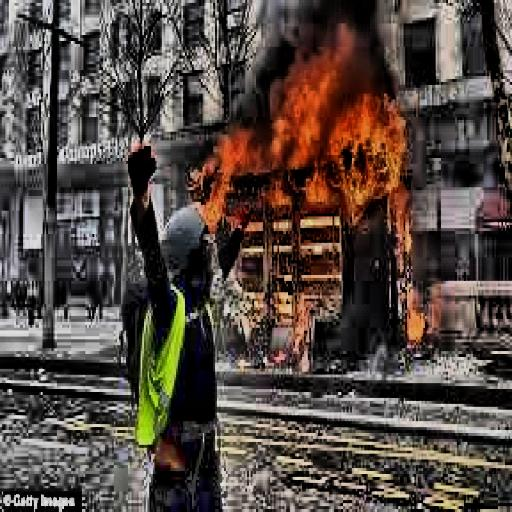fire: (196, 59, 407, 228), (389, 287, 432, 342)
